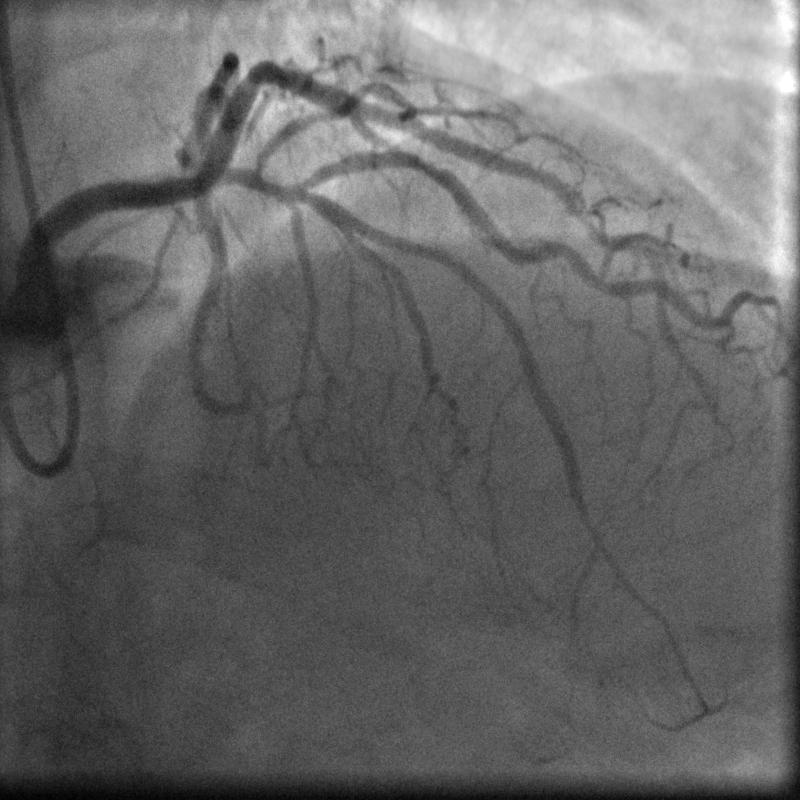Stenosis: (406, 147, 458, 185)
